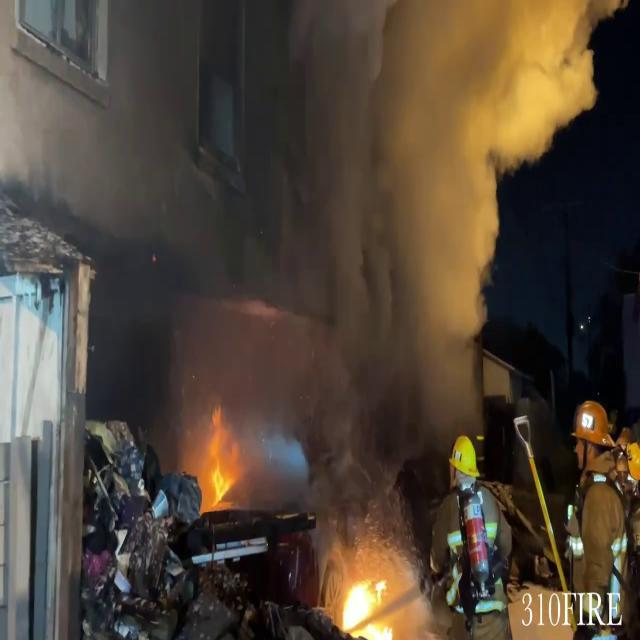Fire: (192, 400, 240, 510), (334, 570, 402, 638)
Smoke: (7, 0, 622, 413)
